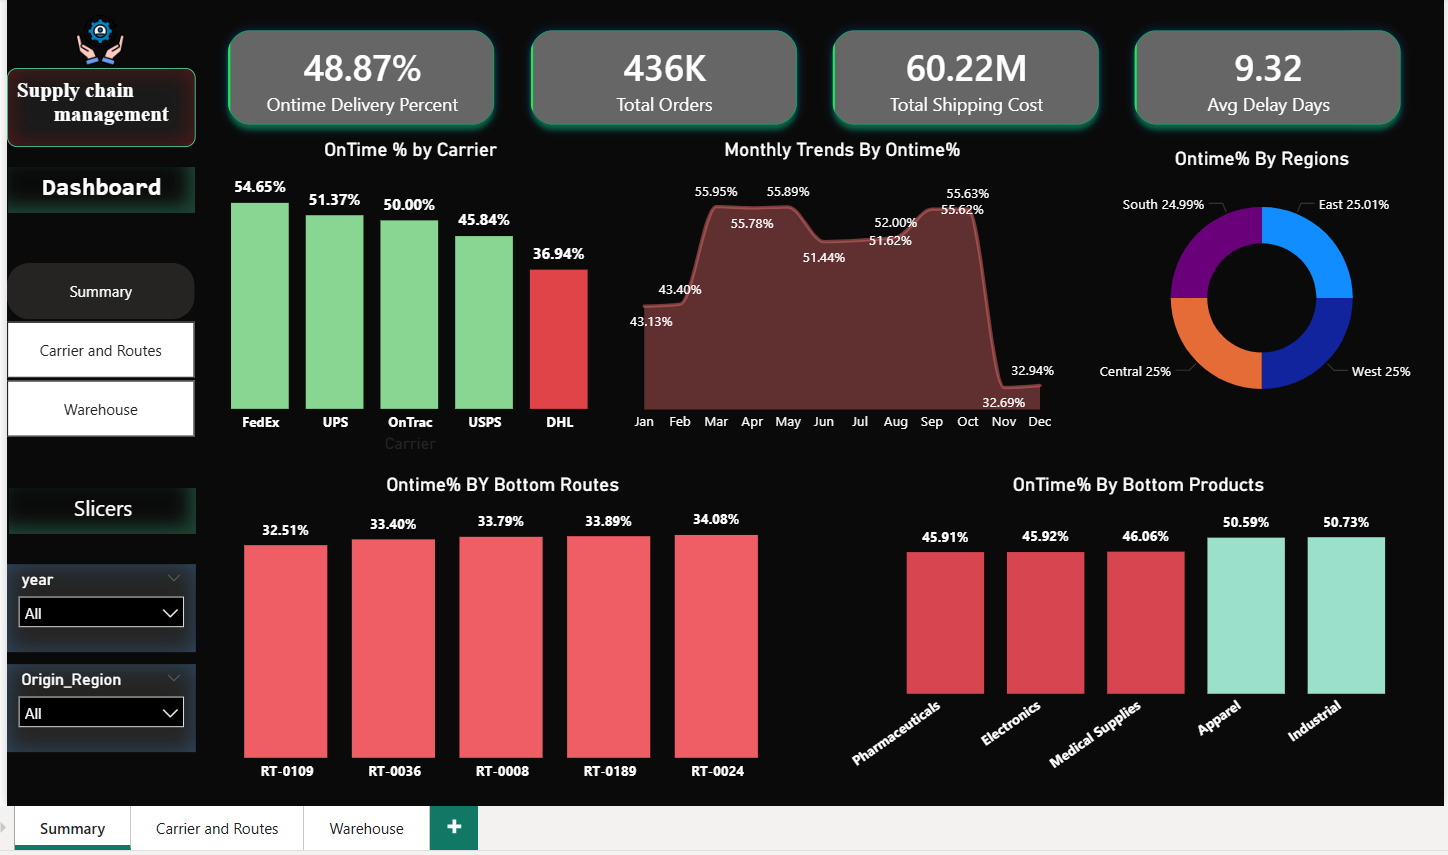

This screenshot's page, from the dashboard's own definition file:
{"tool":"powerbi","page":{"name":"Summary","canvas":[1280,720],"ordinal":0},"visuals":[{"type":"columnChart","title":"OnTime % by Carrier","fields":{"Category":["dim_carriers.Carrier"],"Y":["supplychain fact_table.ontime_delivery_percent"]},"box":[168.3,125.2,382.6,285.2],"z":0},{"type":"lineChart","title":"Monthly Trends By Ontime%","fields":{"Category":["dim_calender.Date.Variation.Date Hierarchy.Year","dim_calender.Date.Variation.Date Hierarchy.Quarter","dim_calender.Date.Variation.Date Hierarchy.Day","dim_calender.month_name"],"Y":["supplychain fact_table.ontime_delivery_percent"]},"box":[550,125,388,271],"z":1000},{"type":"donutChart","title":"Ontime% By Regions","fields":{"Category":["dim_origins.Origin_Region"],"Y":["supplychain fact_table.ontime_delivery_percent"]},"box":[955.1,132.5,325,250.5],"z":2000},{"type":"clusteredColumnChart","title":"Ontime% BY Bottom Routes","fields":{"Y":["supplychain fact_table.ontime_delivery_percent"],"Category":["dim_routes.Route_ID"]},"box":[168.3,423,546.8,283.8],"z":3000},{"type":"columnChart","title":"OnTime% By Bottom Products","fields":{"Category":["dim_products_cat.Product_Category"],"Y":["supplychain fact_table.ontime_delivery_percent"]},"box":[744.3,423,525.9,283.8],"z":4000},{"type":"cardVisual","fields":{"Data":["supplychain fact_table.ontime_delivery_percent","supplychain fact_table.Total_orders","supplychain fact_table.Total_shipping_cost","supplychain fact_table.avg_delay_days"]},"box":[168,0,1102,142],"z":5000},{"type":"shape","box":[0,0,168,720],"z":6000},{"type":"textbox","box":[0,61.9,167.9,70.2],"z":7000},{"type":"slicer","fields":{"Values":["dim_calender.year"]},"box":[0,504.8,167.9,78.6],"z":8000},{"type":"pageNavigator","box":[0.4,340.5,167.9,50],"z":9000},{"type":"pageNavigator","box":[0.4,235.7,167.9,50],"z":10000},{"type":"pageNavigator","box":[0.4,288.1,167.9,50],"z":11000},{"type":"image","box":[11.9,13.1,141.7,48.8],"z":12000},{"type":"textbox","box":[1.2,150,166.7,40.5],"z":13000},{"type":"slicer","fields":{"Values":["dim_origins.Origin_Region"]},"box":[0,592.9,167.9,78.6],"z":14000},{"type":"textbox","box":[2.4,436.9,166.7,40.5],"z":15000}]}

Visuals, with their boxes on the page's 1280x720 design canvas (x1, y1, x2, y2). These are canvas units, not pixel positions in the 1448x855 screenshot, which may show the page scaled, cropped or inside an application window:
"OnTime % by Carrier" columnChart: 168,125,551,410
"Monthly Trends By Ontime%" lineChart: 550,125,938,396
"Ontime% By Regions" donutChart: 955,132,1280,383
"Ontime% BY Bottom Routes" clusteredColumnChart: 168,423,715,707
"OnTime% By Bottom Products" columnChart: 744,423,1270,707
cardVisual - supplychain fact_table.ontime_delivery_percent x supplychain fact_table.Total_orders: 168,0,1270,142
shape: 0,0,168,720
textbox: 0,62,168,132
slicer - dim_calender.year: 0,505,168,583
pageNavigator: 0,340,168,390
pageNavigator: 0,236,168,286
pageNavigator: 0,288,168,338
image: 12,13,154,62
textbox: 1,150,168,190
slicer - dim_origins.Origin_Region: 0,593,168,672
textbox: 2,437,169,477
